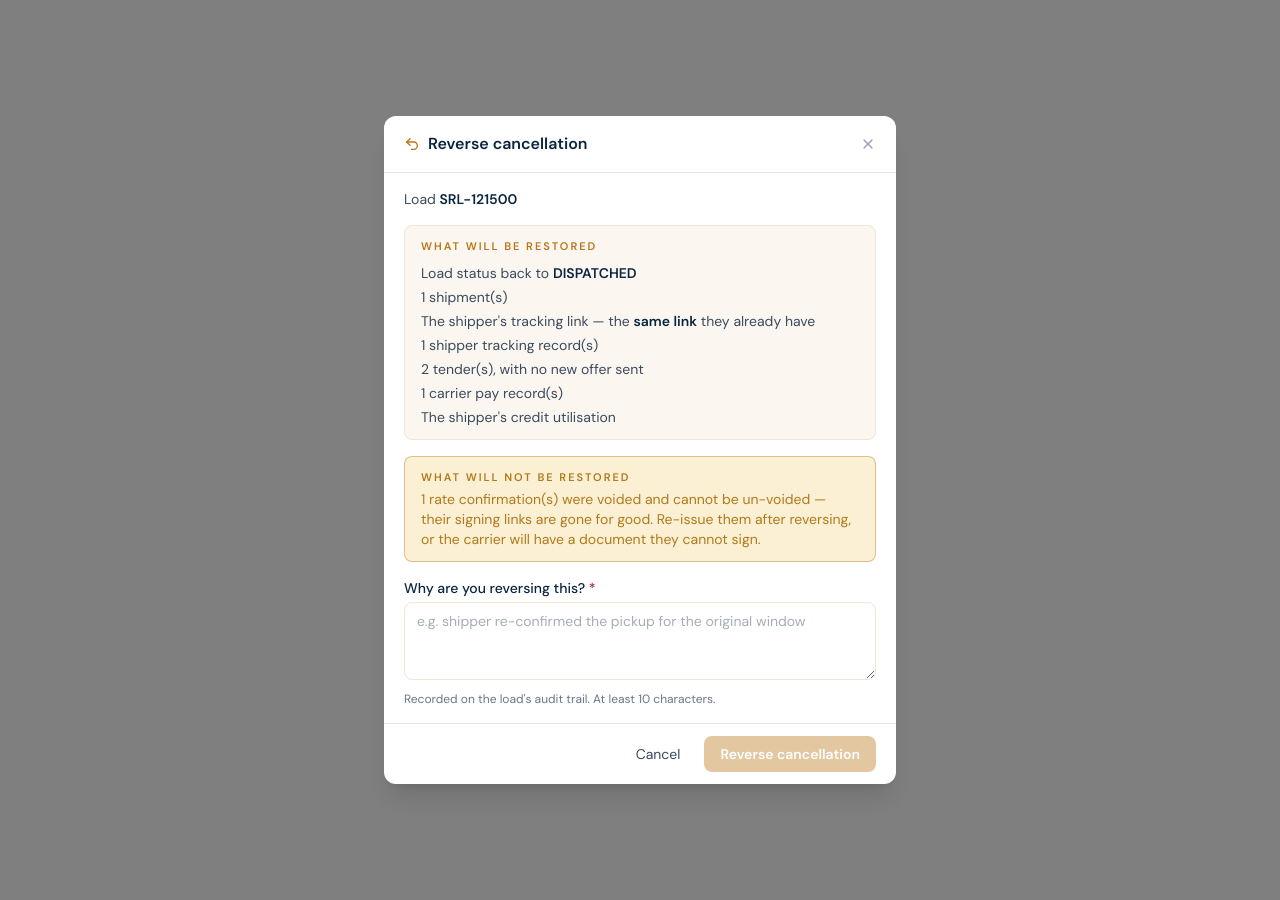
Test: ReverseCancellationModal › surfaces a server refusal on submit rather than a generic message
Step 1. Type "shipper re-confirmed the pickup" into the text box labelled "Why are you reversing this? *" → (640, 641), box [404,602,876,680]
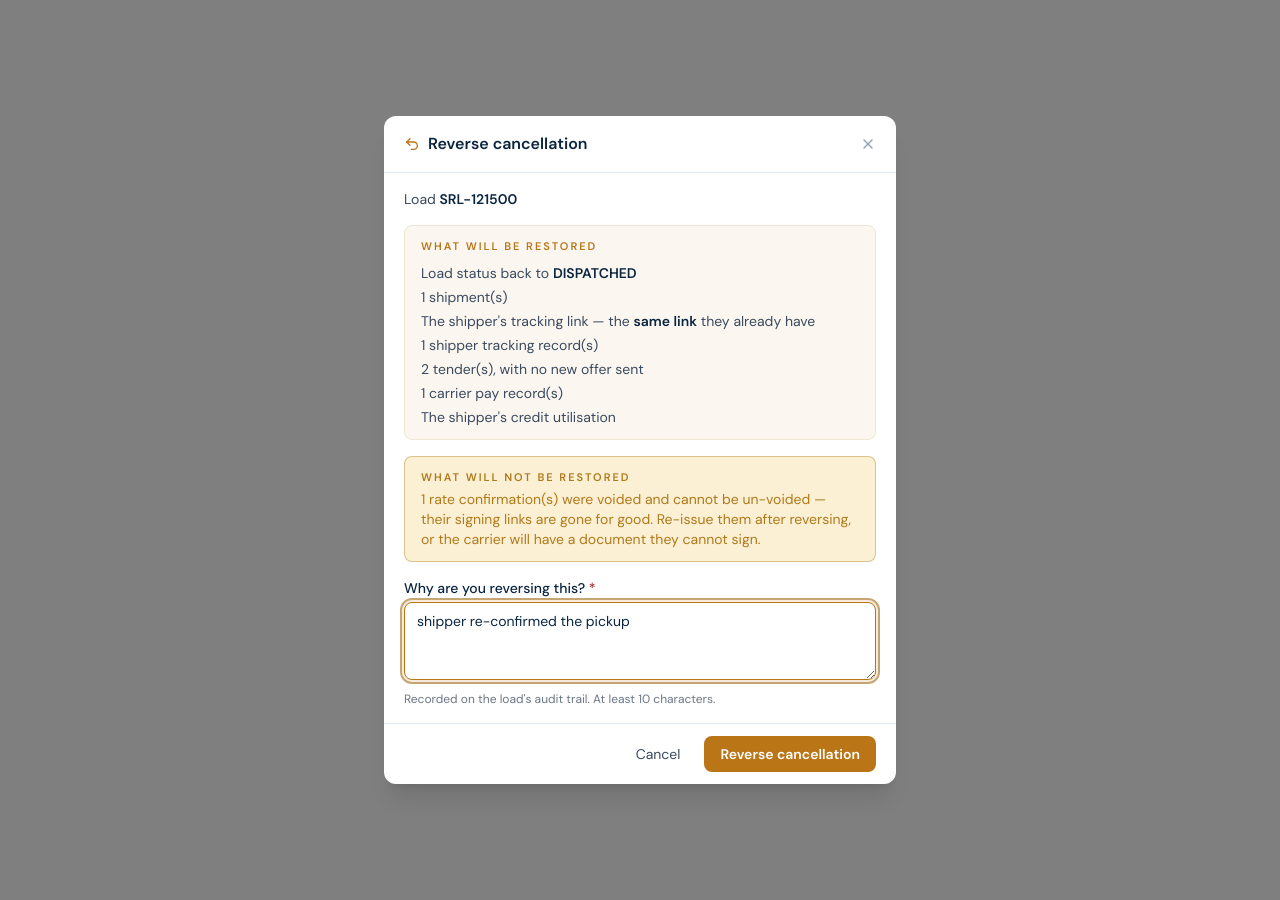
Step 2. Click the button "Reverse cancellation" → (790, 754), box [704,736,876,772]
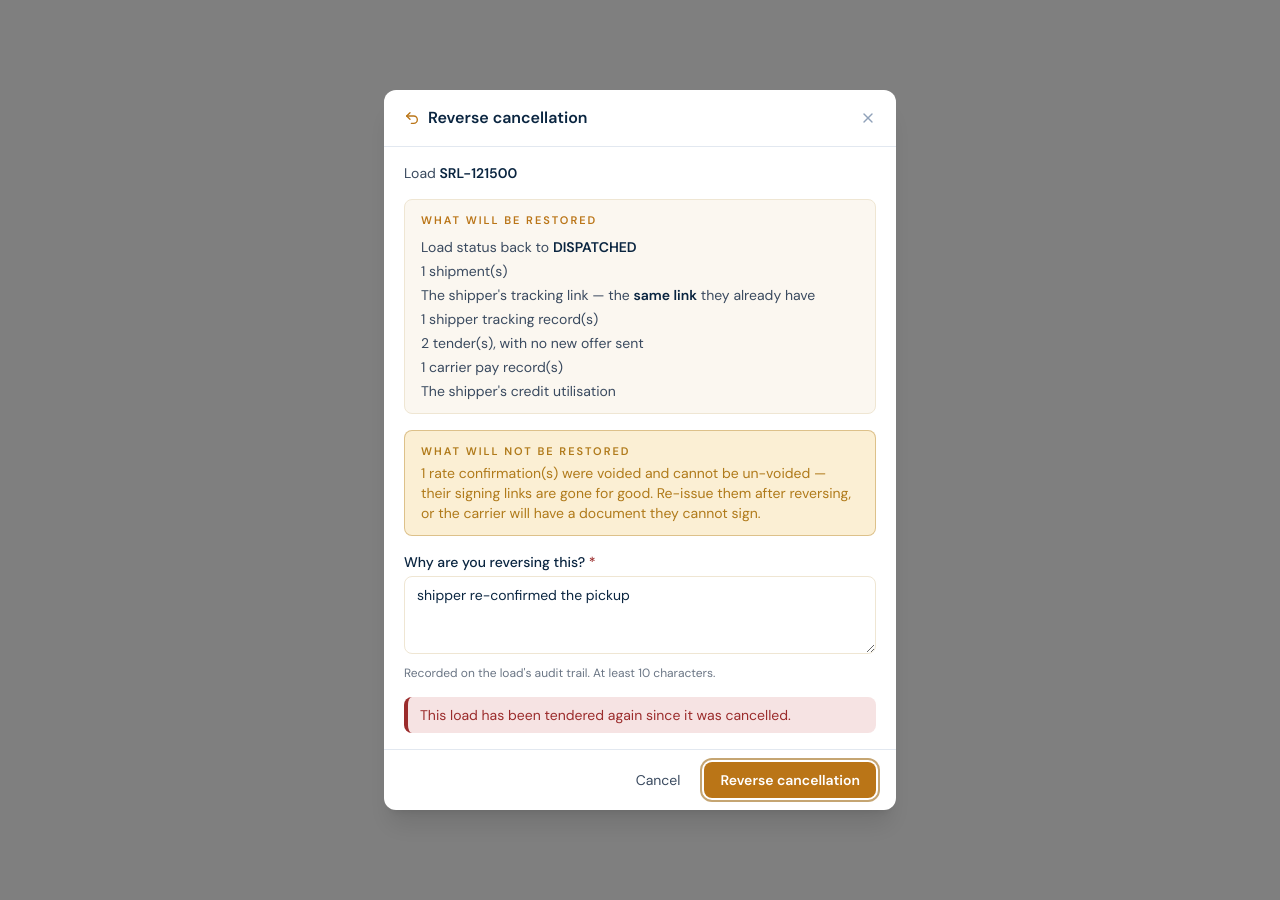
Check: the text "This load has been tendered again since it was cancelled." is shown, box [404,697,876,733]
